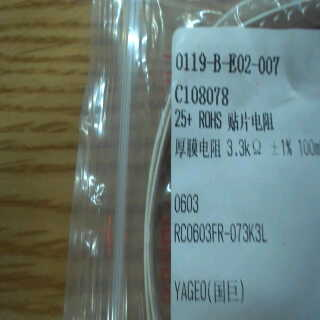3.3kO: (222, 135, 266, 160)
